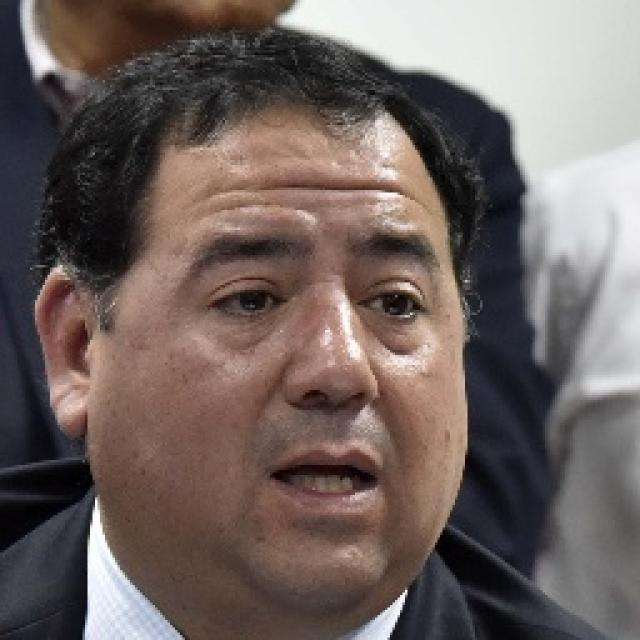earlobe: (46, 368, 94, 437)
eye: (358, 282, 427, 322), (205, 284, 289, 316)
nose: (283, 388, 376, 442)
wholeear: (35, 262, 93, 436)
